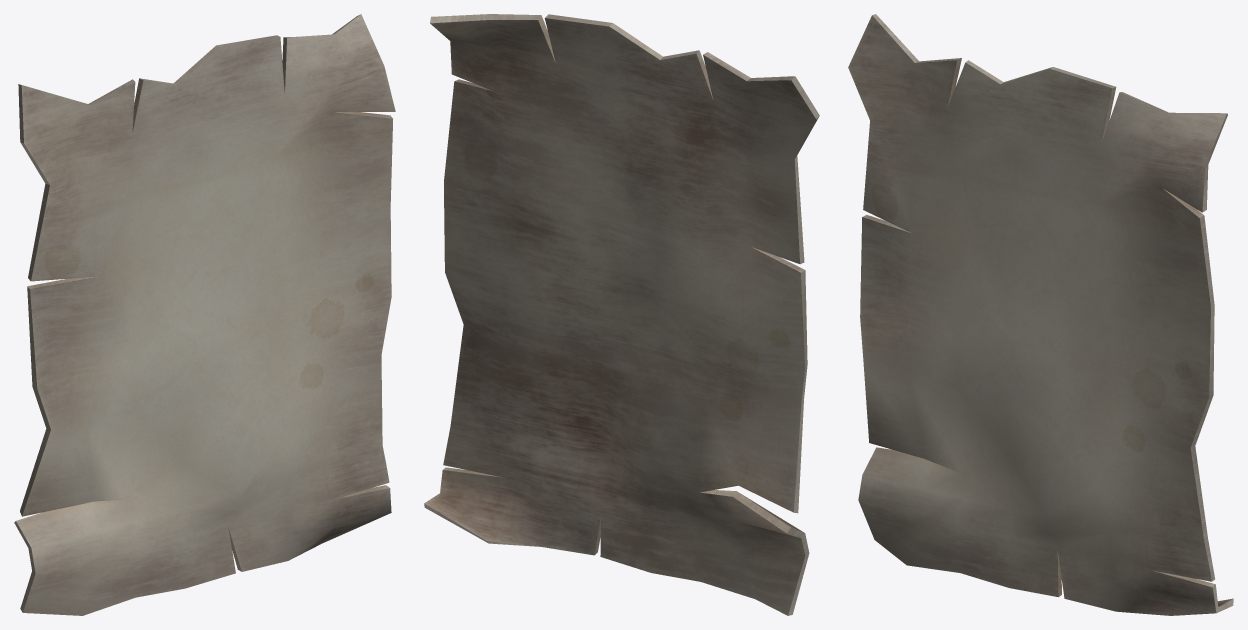
File: Parchment_v1.fbx
The picture shows the model from 3 angles, left to right: view 1: azimuth 30°, elevation 25°; view 2: azimuth 150°, elevation 25°; view 3: azimuth 330°, elevation 25°; orthographic projection. The views are drawn at different scales.
Parts seen in each view (by area): view 1: Parchment1_LP; view 2: Parchment1_LP; view 3: Parchment1_LP.
Part boxes in pixels (x1,y1,x2,y2): Parchment1_LP: (14, 14, 395, 615); Parchment1_LP: (424, 14, 819, 615); Parchment1_LP: (848, 14, 1233, 615).
Bounding box in the file's own units: 2.69 × 17.36 × 23.79.
Materials: 1 (1 with a texture image).
